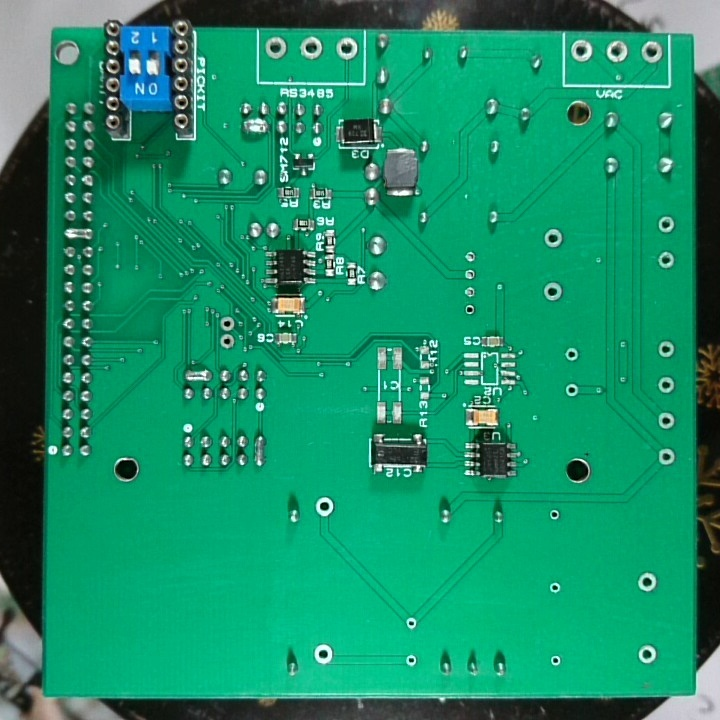F: (603, 38, 631, 67), (334, 35, 362, 63), (638, 39, 665, 66), (569, 37, 596, 64), (262, 35, 289, 62), (635, 641, 659, 669), (299, 35, 325, 60), (311, 642, 336, 667), (313, 494, 337, 519), (541, 226, 565, 251), (635, 569, 657, 595), (541, 280, 565, 303), (656, 212, 677, 237), (655, 249, 677, 272), (655, 446, 677, 469), (657, 373, 677, 396), (657, 409, 677, 432), (657, 338, 677, 358), (562, 381, 582, 401), (217, 332, 238, 351), (218, 313, 237, 333), (402, 613, 419, 634), (562, 346, 582, 363), (547, 580, 566, 597), (462, 247, 479, 266), (462, 266, 479, 284), (546, 506, 562, 524), (462, 302, 478, 320), (462, 284, 478, 302), (402, 651, 417, 669), (547, 652, 562, 669)
P: (251, 433, 268, 469), (181, 366, 214, 384), (240, 117, 271, 136), (60, 225, 96, 241)
